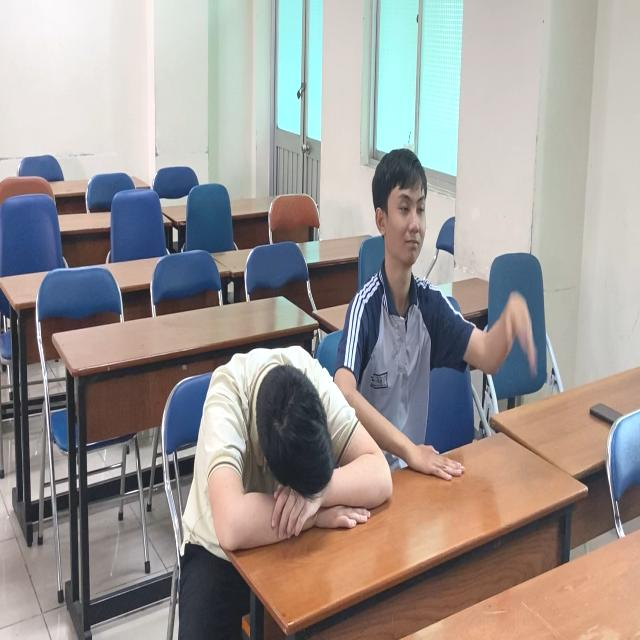sleep: (188, 330, 395, 553)
